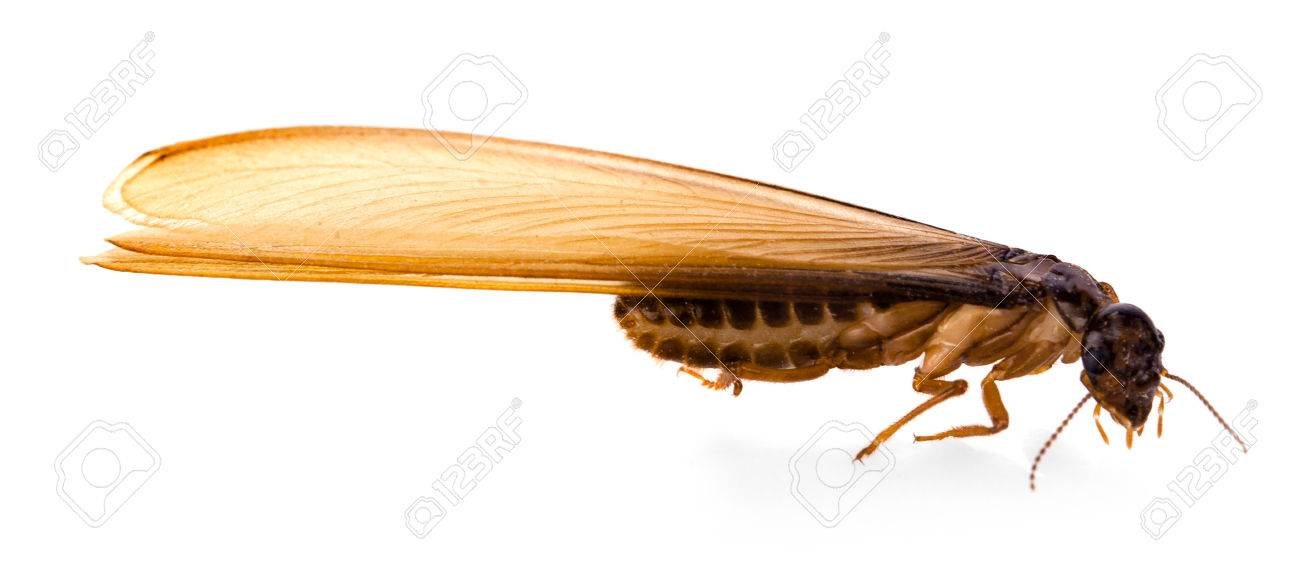flying termite: (89, 75, 1284, 545)
